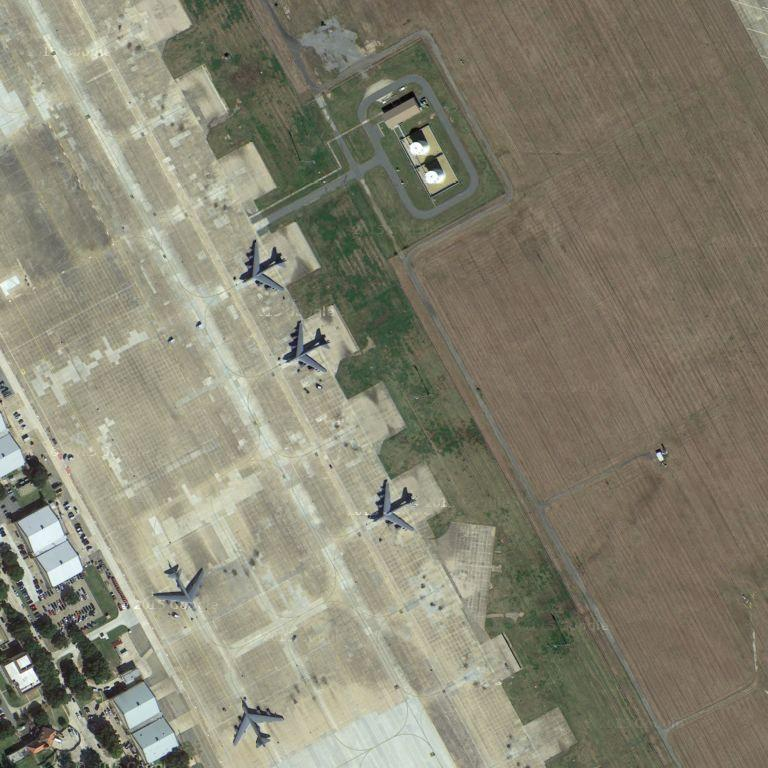B-52: (237, 236, 292, 295), (229, 697, 287, 750), (153, 561, 207, 615), (368, 479, 420, 534), (281, 319, 332, 374)
